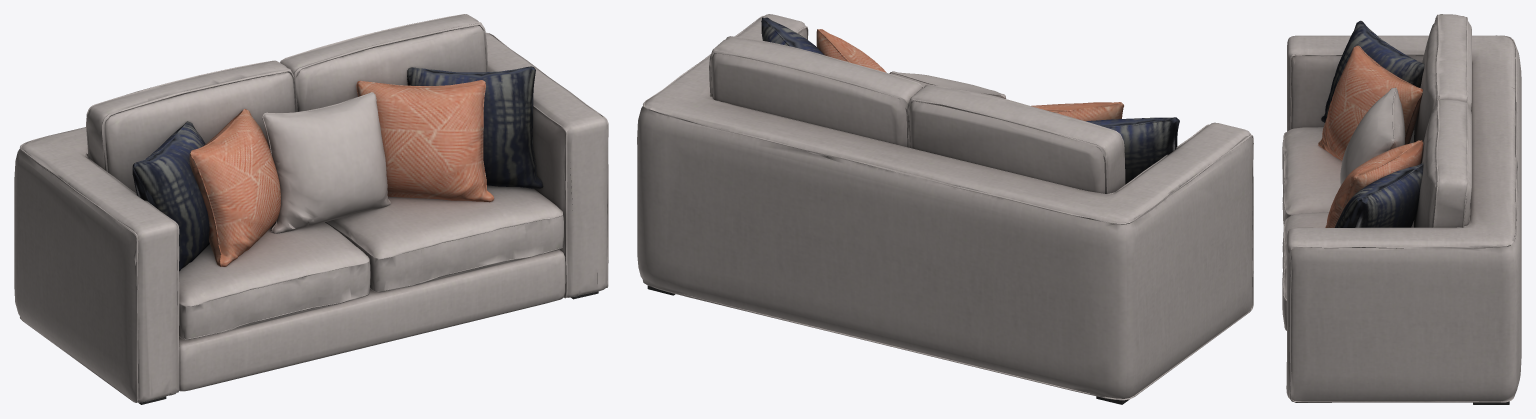
Rendered from raw_model.obj.
The picture shows the model from 3 angles, left to right: view 1: azimuth 30°, elevation 25°; view 2: azimuth 150°, elevation 25°; view 3: azimuth 270°, elevation 25°; orthographic projection. The views are drawn at different scales.
Visible parts, largest first — view 1: solid_004, solid_002, solid_003; view 2: solid_004, solid_003, solid_002; view 3: solid_004, solid_002, solid_003.
Boxes of the visible parts, x1=… form: solid_004: x1=14, y1=14, x2=608, y2=402; solid_002: x1=189, y1=80, x2=494, y2=266; solid_003: x1=132, y1=66, x2=543, y2=271; solid_004: x1=637, y1=14, x2=1253, y2=400; solid_003: x1=761, y1=17, x2=1179, y2=184; solid_002: x1=816, y1=29, x2=1123, y2=121; solid_004: x1=1282, y1=14, x2=1521, y2=402; solid_002: x1=1318, y1=45, x2=1423, y2=227; solid_003: x1=1321, y1=20, x2=1424, y2=227.
Bounding box in the file's own units: 2.12 × 0.9692 × 1.
Materials: 1 (1 with a texture image).
